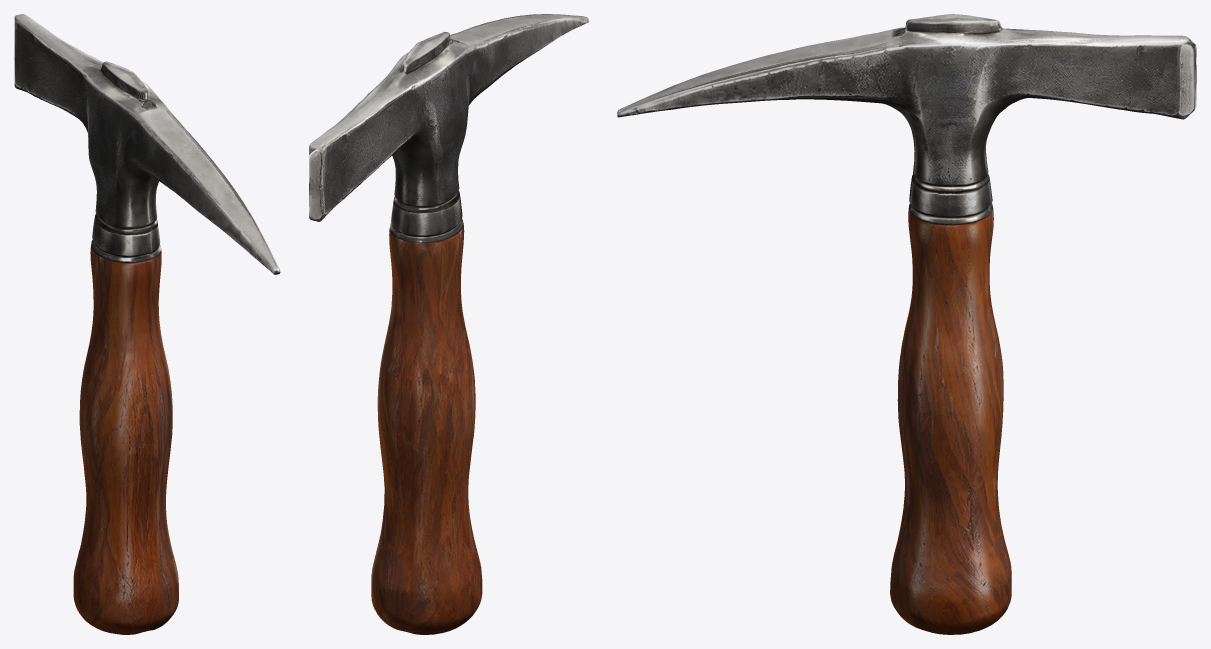
File: dig_chisel.fbx
3 renders of one model, left to right at view 1: azimuth 30°, elevation 25°; view 2: azimuth 150°, elevation 25°; view 3: azimuth 270°, elevation 25°, orthographic. The views are drawn at different scales.
Visible parts, largest first — view 1: tripo_node_49a5655a-c2cc-4f58-9e93-f64661c0c18b; view 2: tripo_node_49a5655a-c2cc-4f58-9e93-f64661c0c18b; view 3: tripo_node_49a5655a-c2cc-4f58-9e93-f64661c0c18b.
Part boxes in pixels (x1=…): tripo_node_49a5655a-c2cc-4f58-9e93-f64661c0c18b: x1=14, y1=14, x2=280, y2=634; tripo_node_49a5655a-c2cc-4f58-9e93-f64661c0c18b: x1=309, y1=14, x2=588, y2=634; tripo_node_49a5655a-c2cc-4f58-9e93-f64661c0c18b: x1=617, y1=14, x2=1196, y2=634.
Size of the model in its own units: 0.171 by 0.9999 by 0.871.
1 material, 1 textured.
